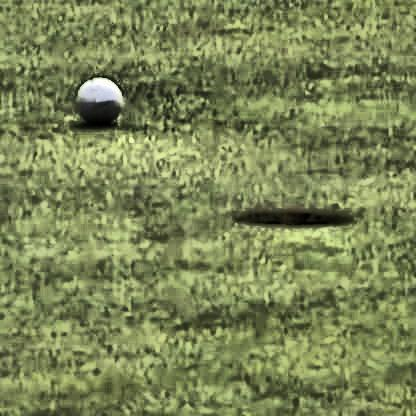golfball: (75, 71, 123, 122)
